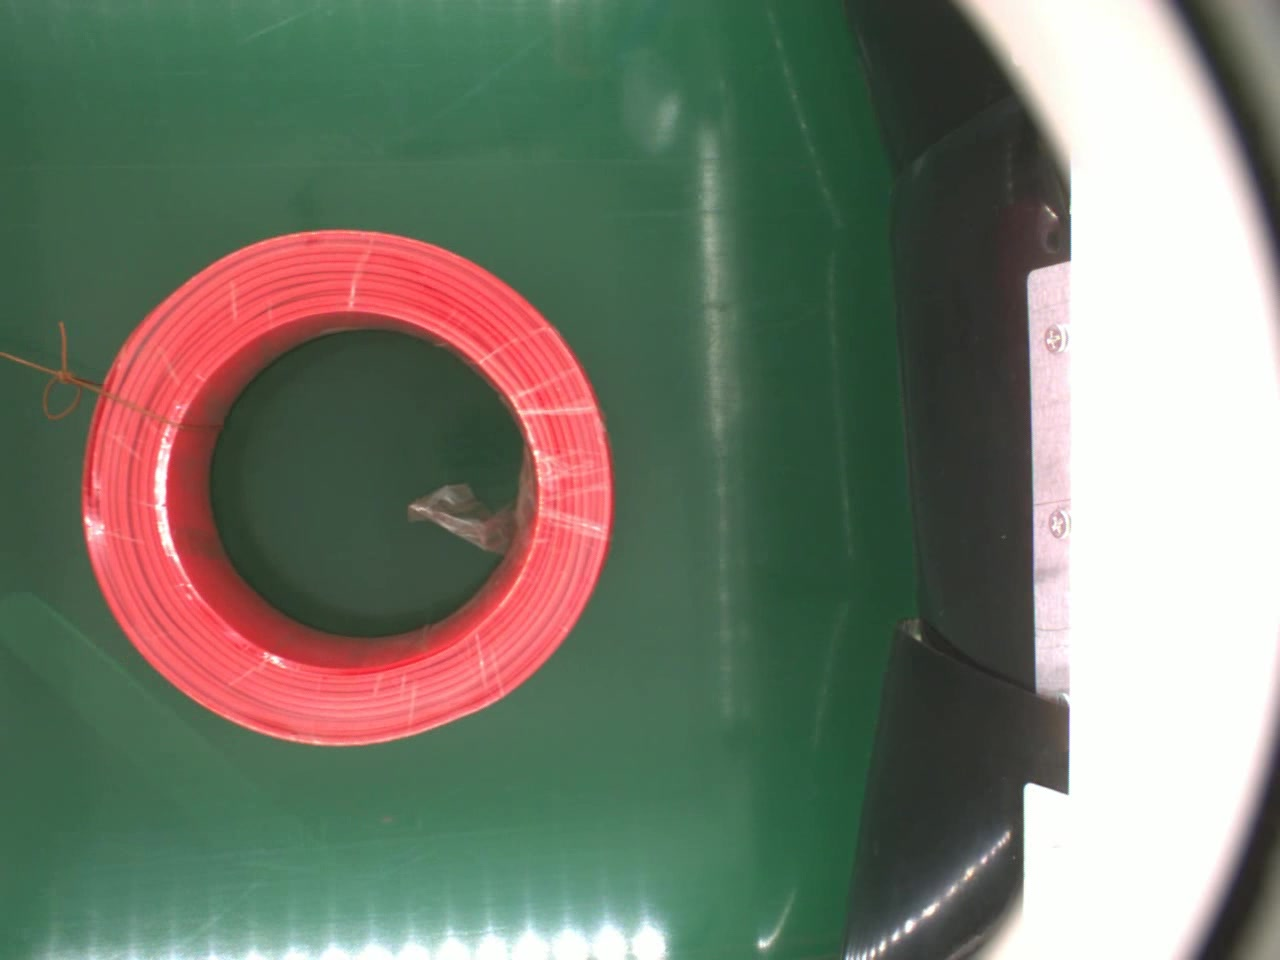red: (81, 226, 614, 746)
